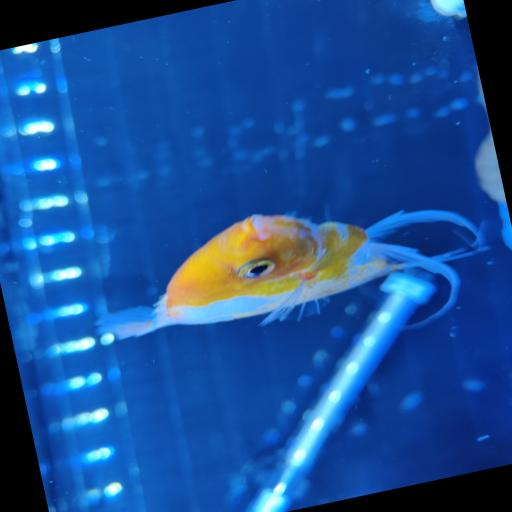Fish: (97, 210, 489, 339)
